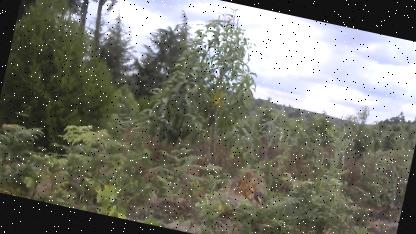tree: (123, 0, 286, 177)
